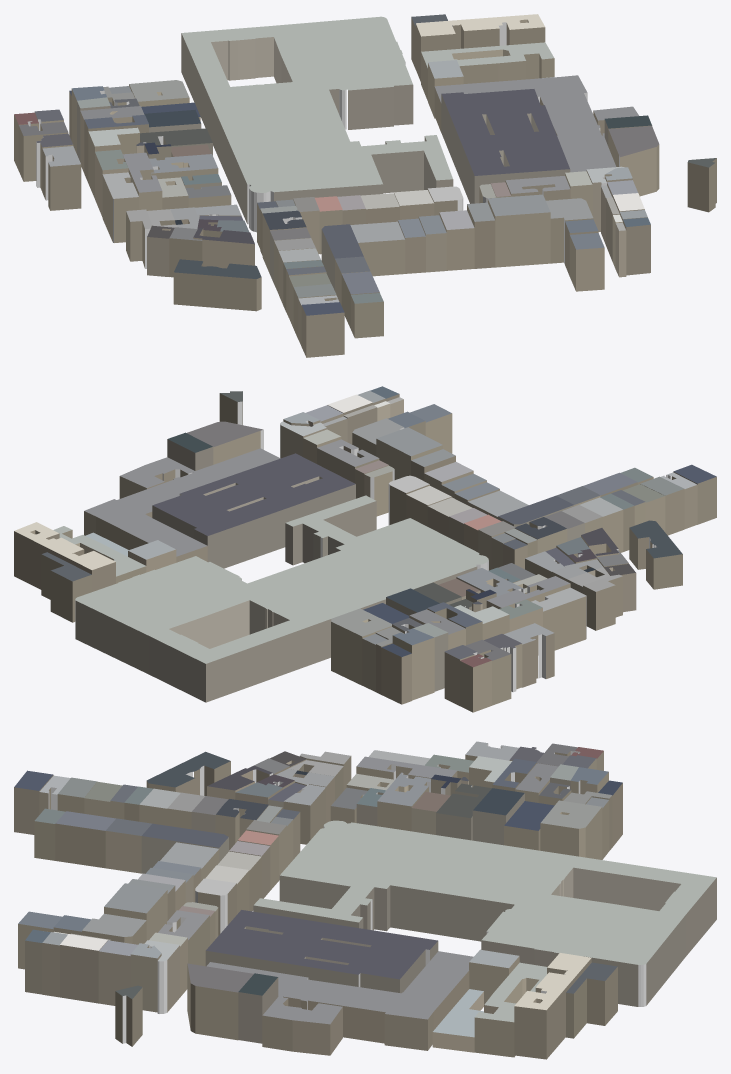
The picture shows the model from 3 angles, top to bottom: view 1: azimuth 30°, elevation 25°; view 2: azimuth 150°, elevation 25°; view 3: azimuth 270°, elevation 25°; orthographic projection. The views are drawn at different scales.
Parts seen in each view (by area): view 1: tuile; view 2: tuile; view 3: tuile.
Boxes of the visible parts, <box> form: tuile: <box>14,14,716,357</box>; tuile: <box>14,386,716,712</box>; tuile: <box>14,741,716,1059</box>.
Size of the model in its own units: 272 by 30.1 by 297.
